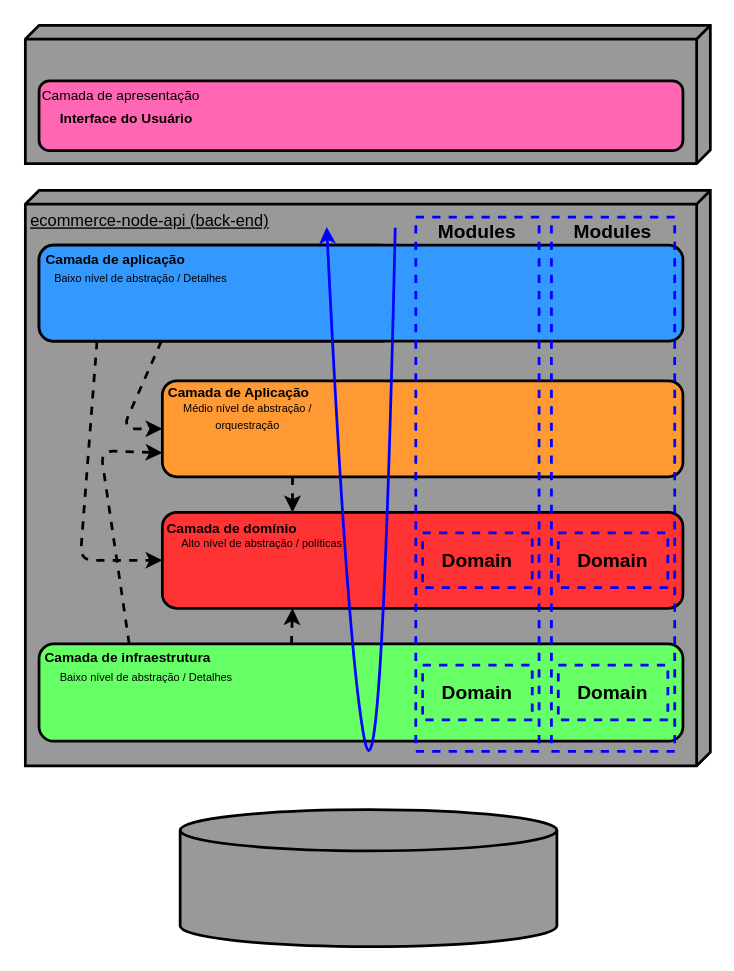
Some shapes in this 734 by 971 pixel diagram are drawn without their labels. Each missing label, with the box of its shape:
Database (Relaconal): (178, 808, 558, 947)
ecommerce-web-app (front-end): (23, 23, 711, 164)
